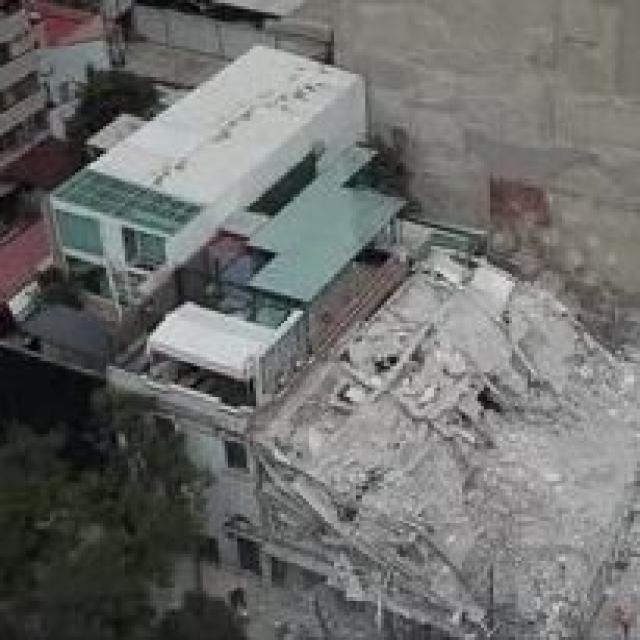collapsed_building: (240, 221, 637, 637)
